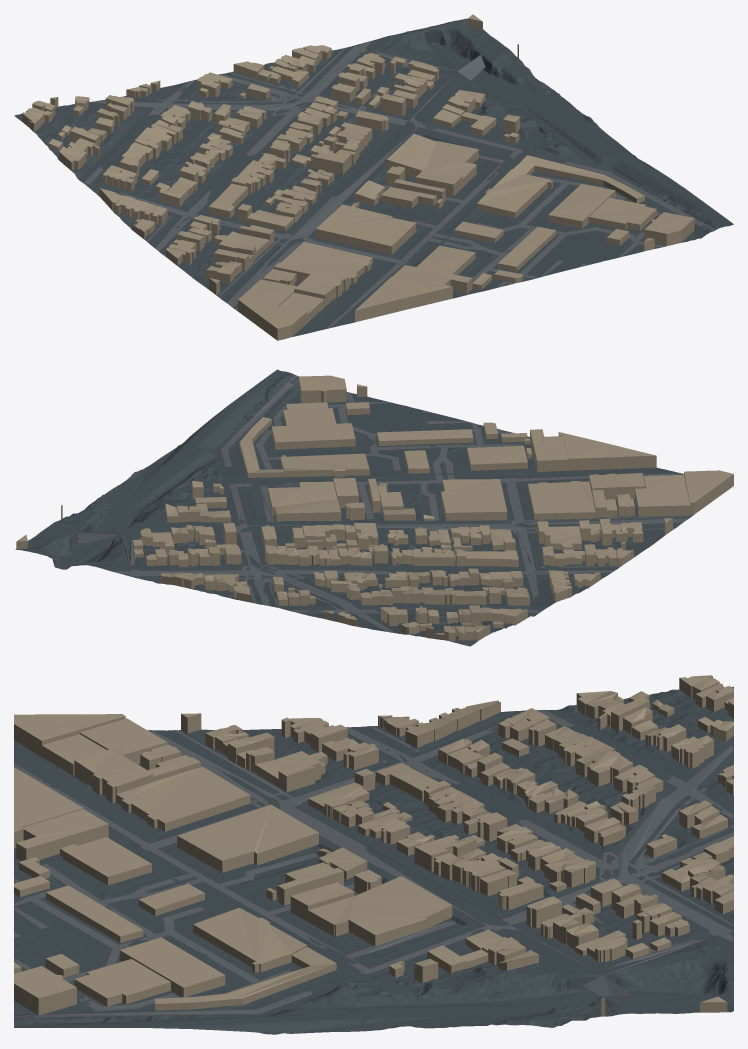
The model's file is epsg26910-1440-10877.lod0.glb.
The picture shows the model from 3 angles, top to bottom: view 1: azimuth 30°, elevation 25°; view 2: azimuth 150°, elevation 25°; view 3: azimuth 270°, elevation 25°; orthographic projection. The views are drawn at different scales.
Parts seen in each view (by area): view 1: epsg26910-1440-10877-lod0; view 2: epsg26910-1440-10877-lod0; view 3: epsg26910-1440-10877-lod0.
Part boxes in pixels (x1=…): epsg26910-1440-10877-lod0: x1=14, y1=14, x2=733, y2=340; epsg26910-1440-10877-lod0: x1=15, y1=369, x2=733, y2=646; epsg26910-1440-10877-lod0: x1=14, y1=675, x2=733, y2=1034.
Bounding box in the file's own units: 384 × 33.99 × 384.
